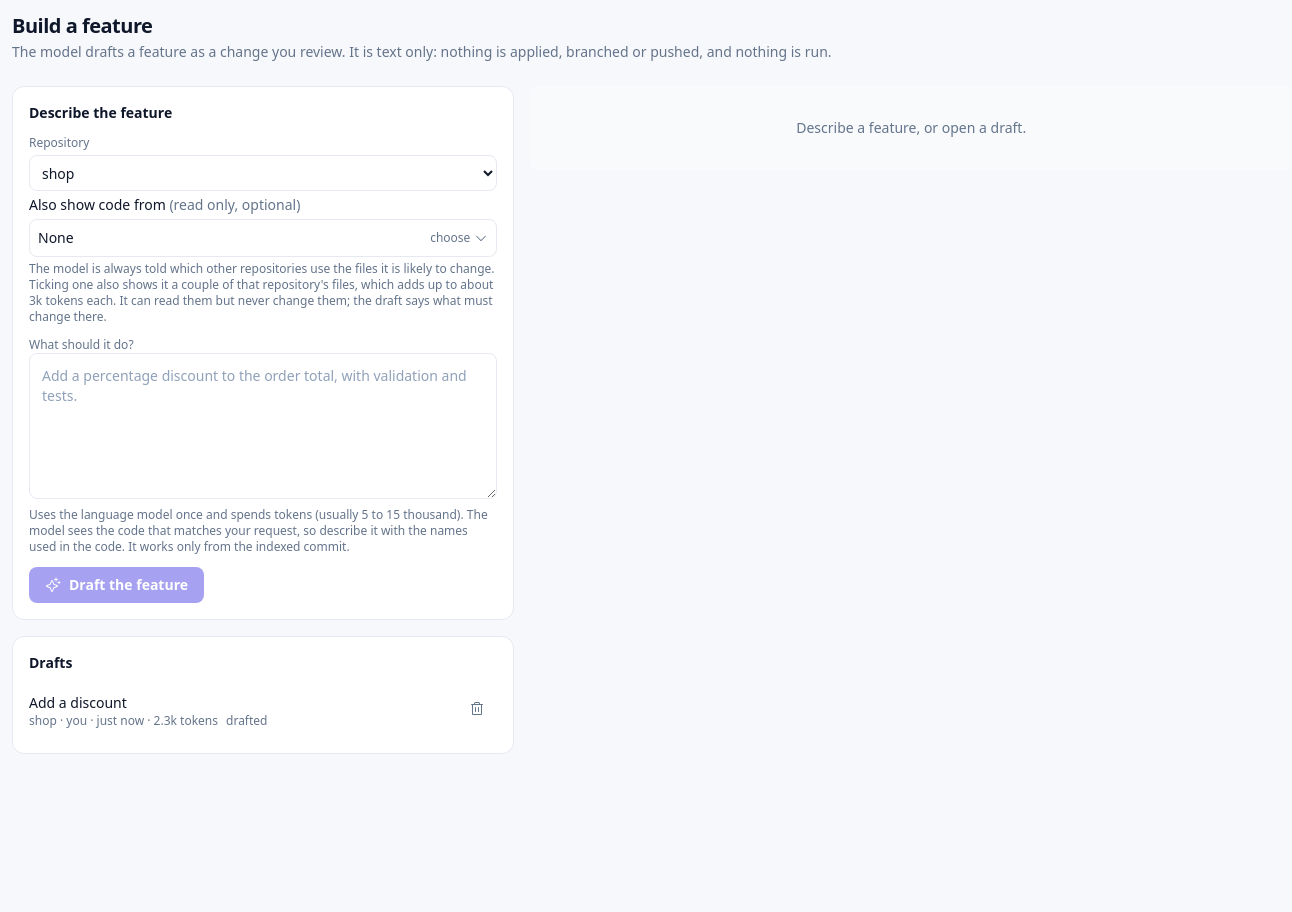
it: Build a feature › says why a draft could not be made
This screenshot has width=1292, height=912.
In the text box named "What should it do?": [263, 426] box [29,353,497,499], type "Add a discount to the order total"
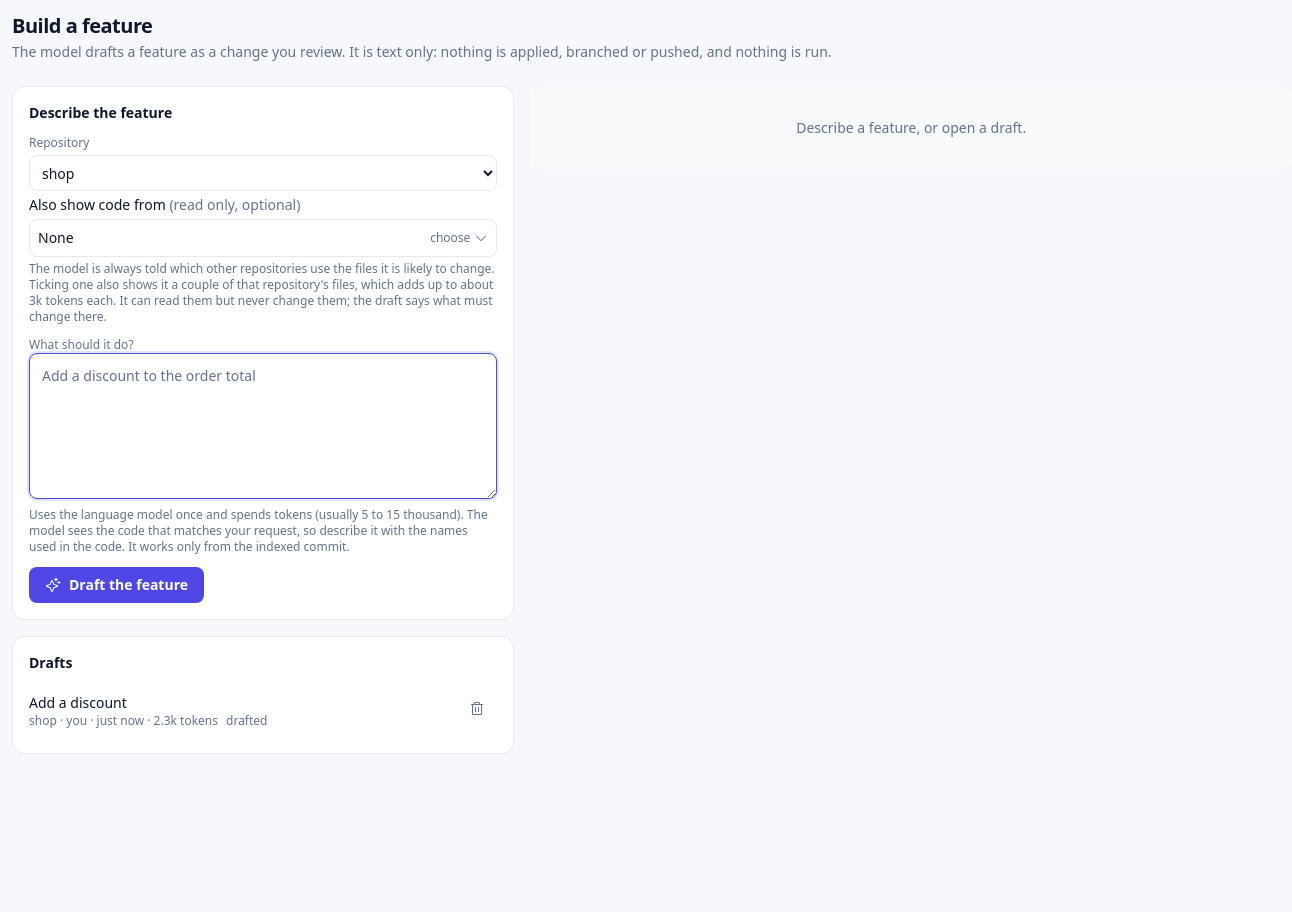
Click the button "Draft the feature": [116, 585] box [29,567,204,603]
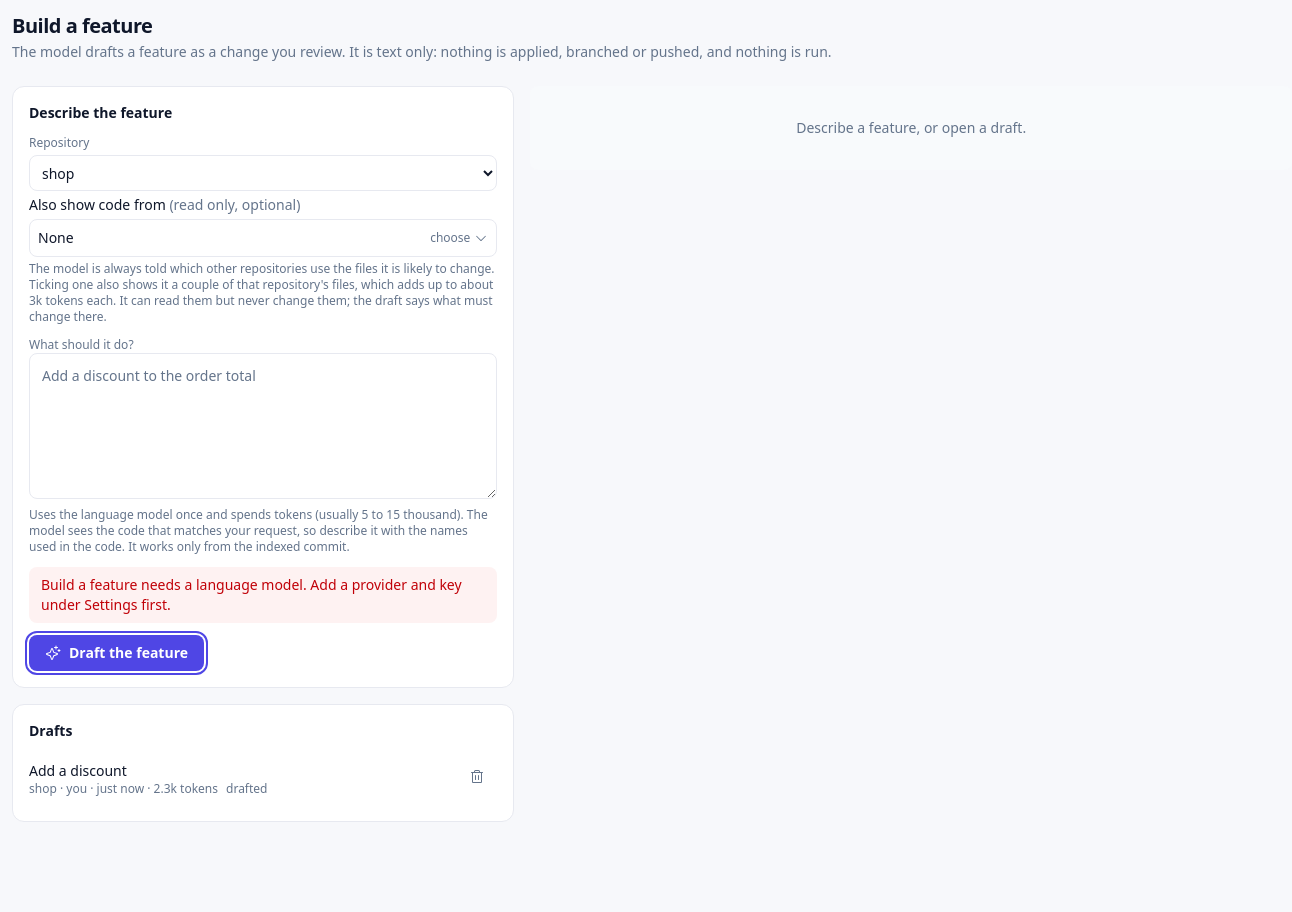
Now the text "needs a language model" is shown, box [41,575,462,614]
